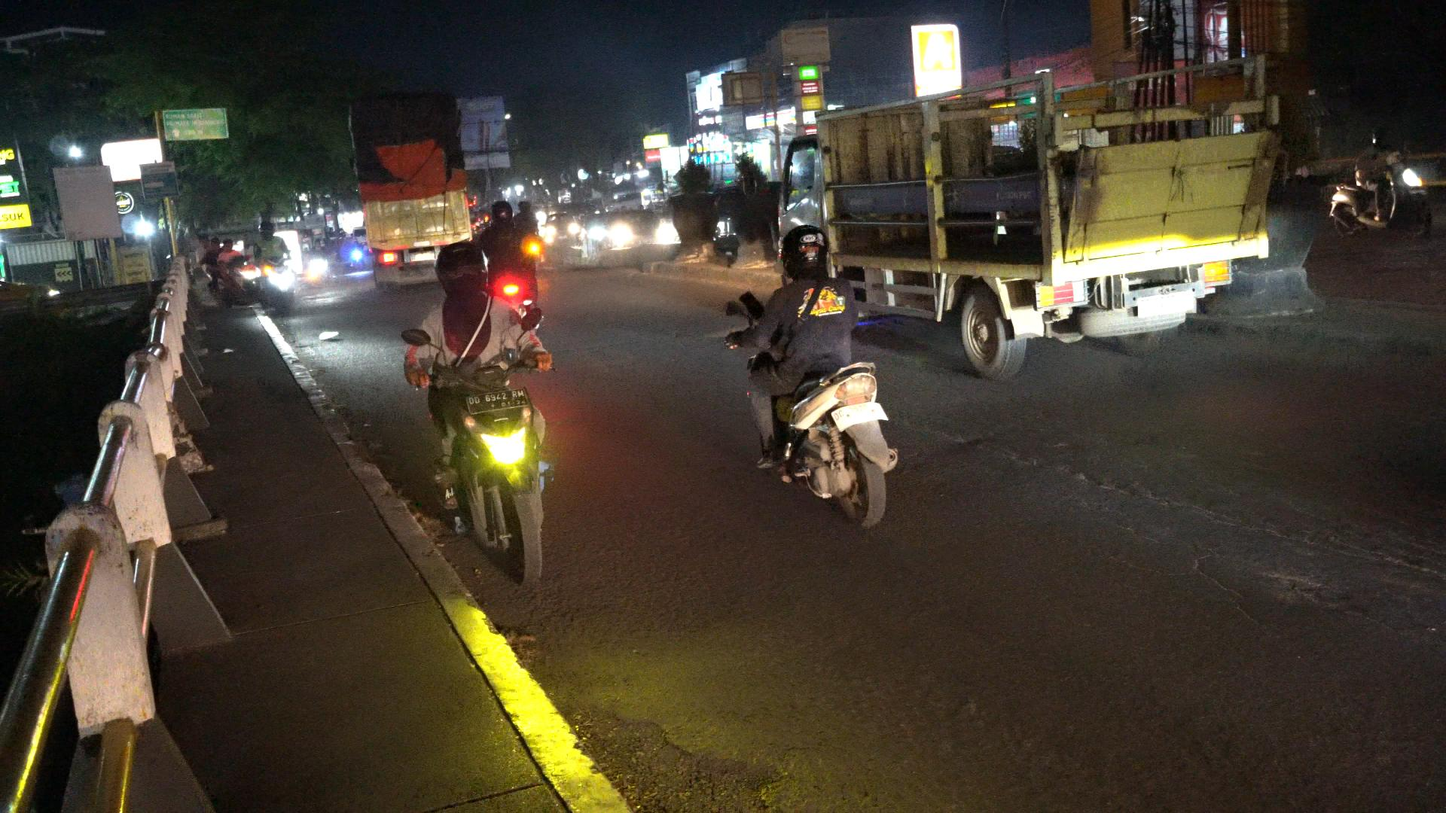number-plate: (466, 386, 535, 417)
